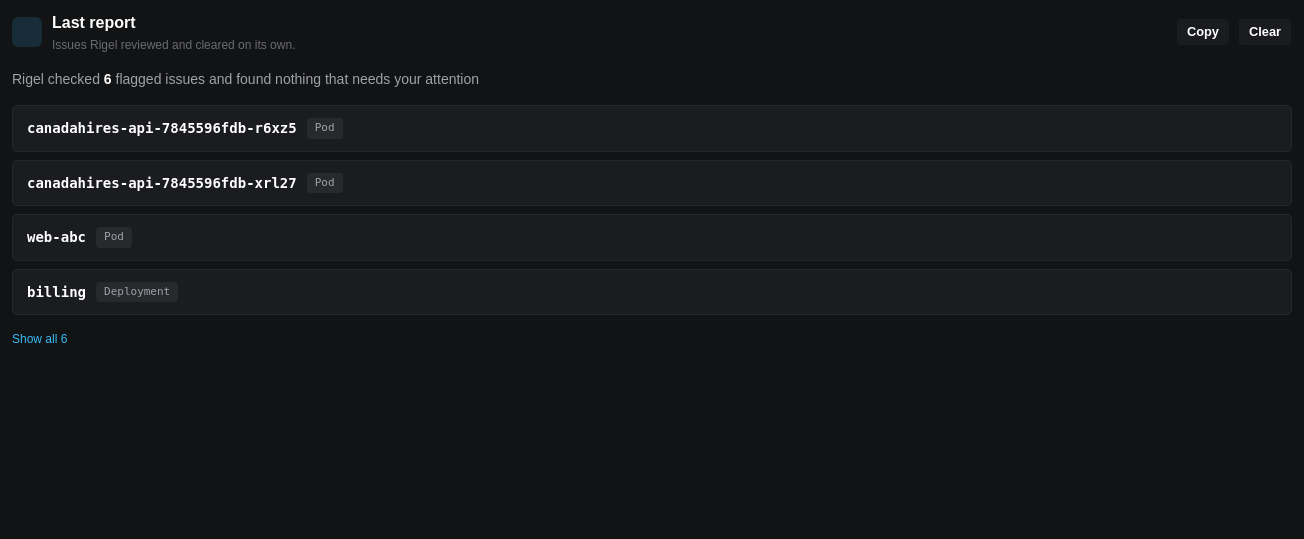
it: LastReportCard › shows the raw human reason when the reasons map carries one
Click the text "canadahires-api-7845596fdb-r6xz5" at (162, 128), box [27,118,297,138]
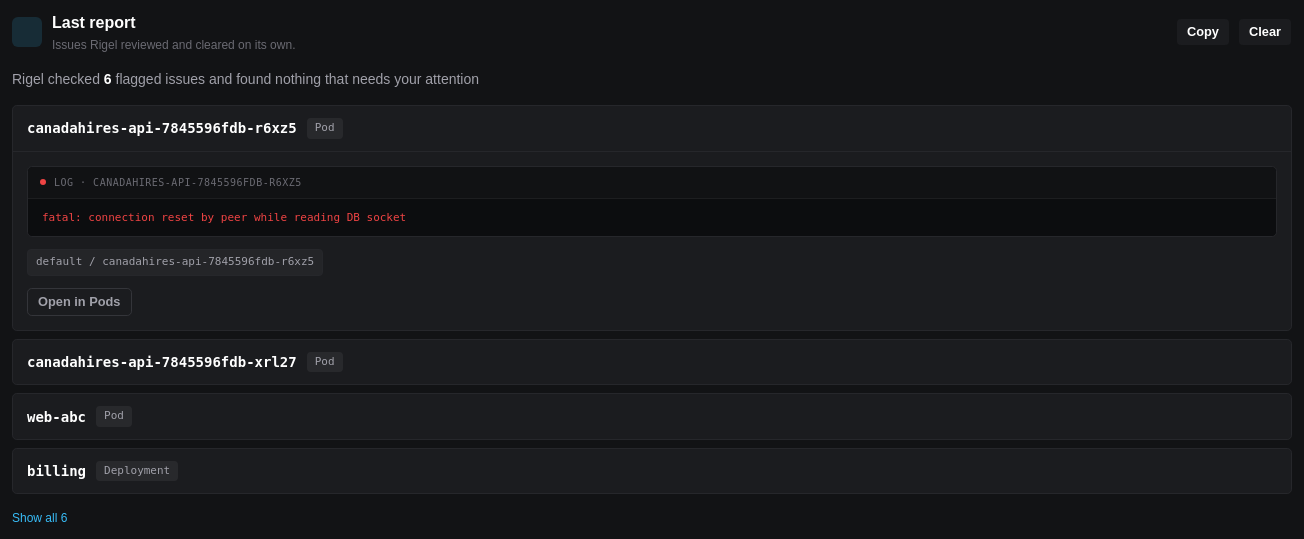
Check: the text "fatal: connection reset by peer while reading DB socket" is shown, box [42,210,406,224]
